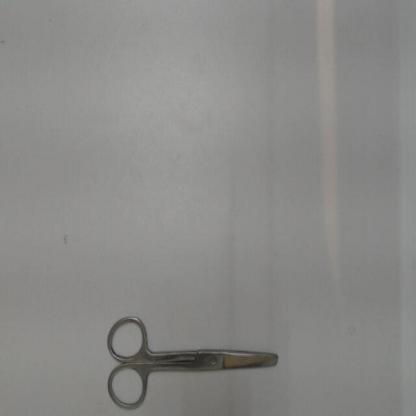Dressing Scissors: (100, 307, 290, 415)
